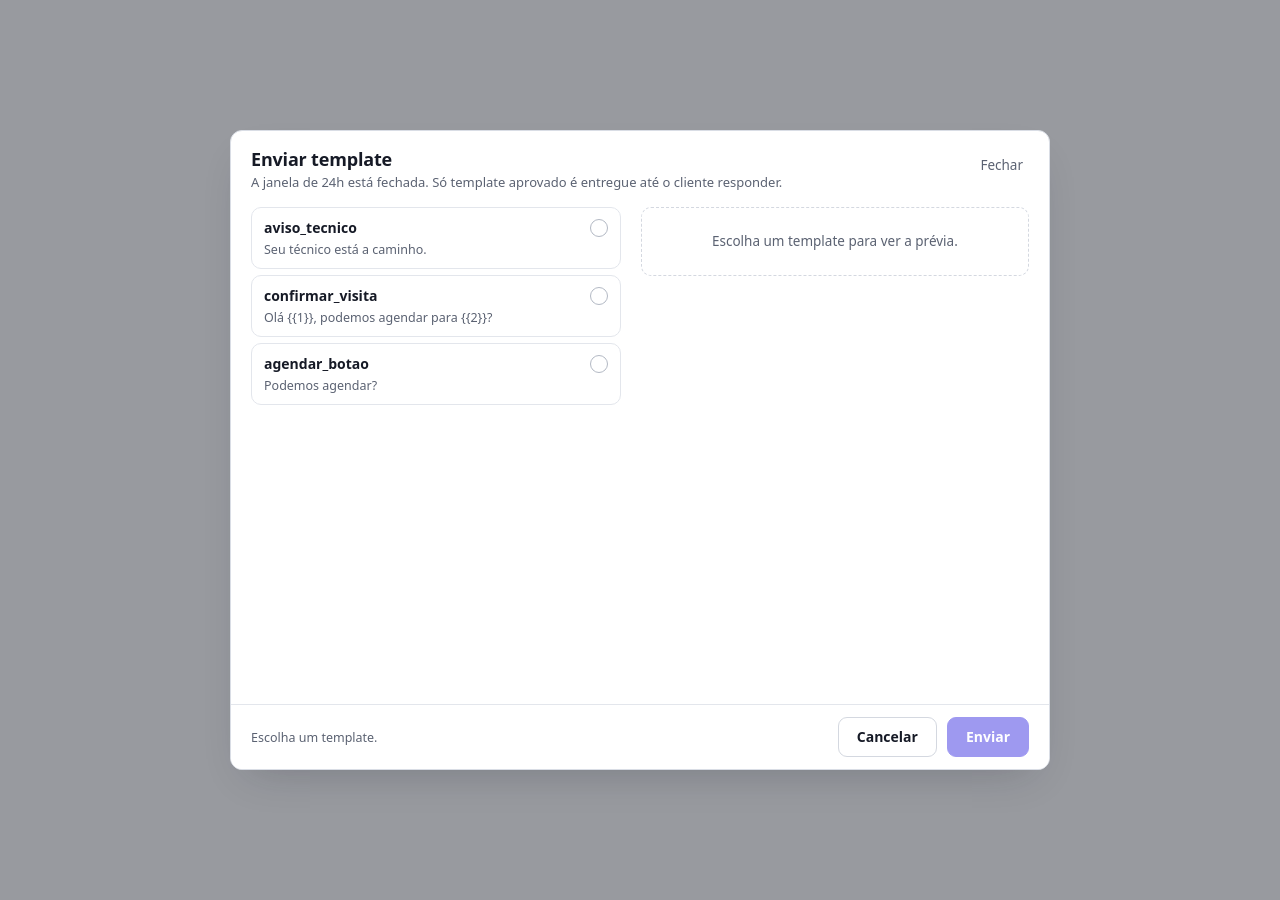
it: SendTemplateModal › a prévia troca as variáveis pelo que foi digitado
The width and height of the screenshot is (1280, 900).
Click the radio button labelled "confirmar_visita Olá {{1}}, podemos agendar para {{2}}?" at (436, 306), box x1=251 y1=275 x2=621 y2=337
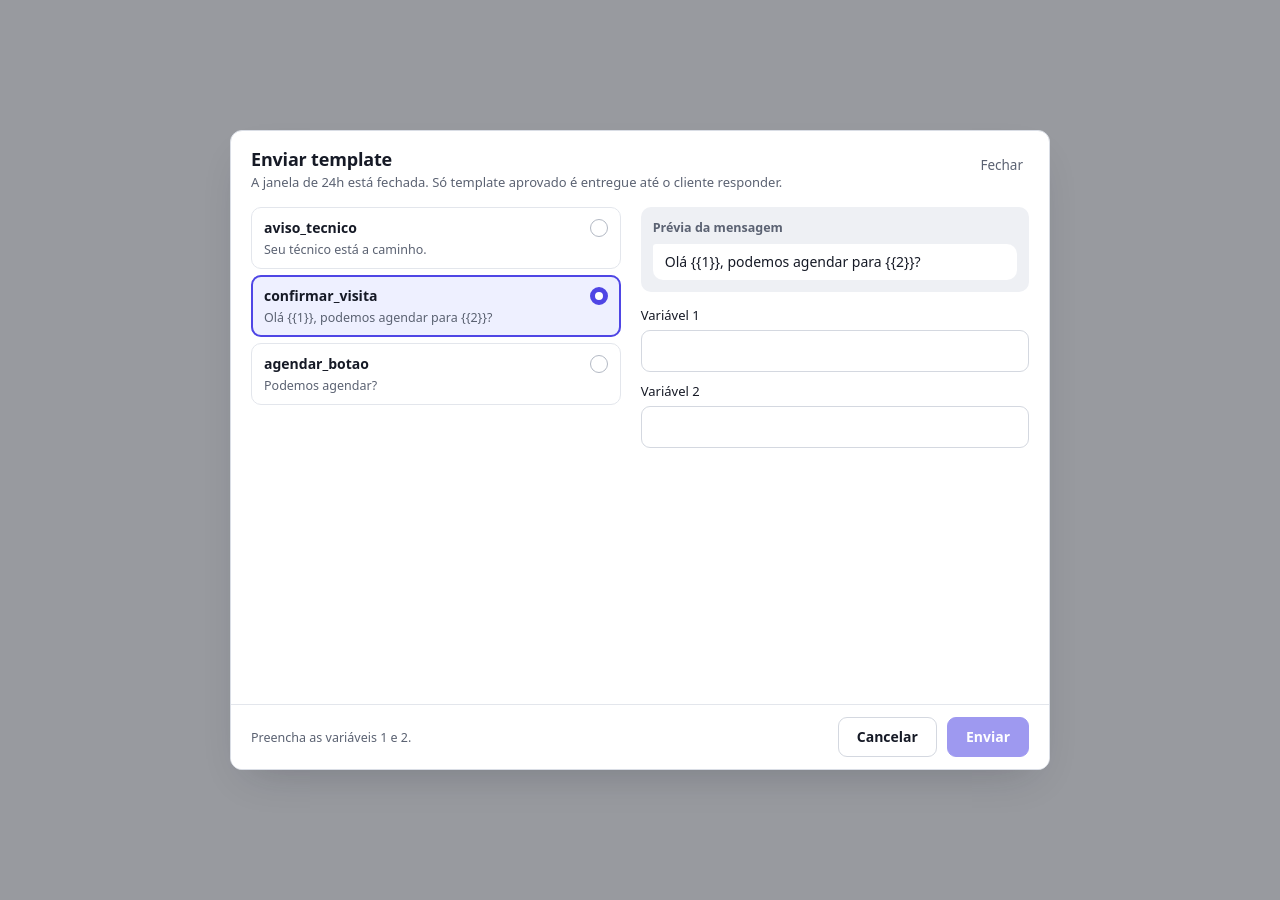
Type "Maria" into the field labelled "Variável 1" at (835, 351), box x1=641 y1=330 x2=1029 y2=372
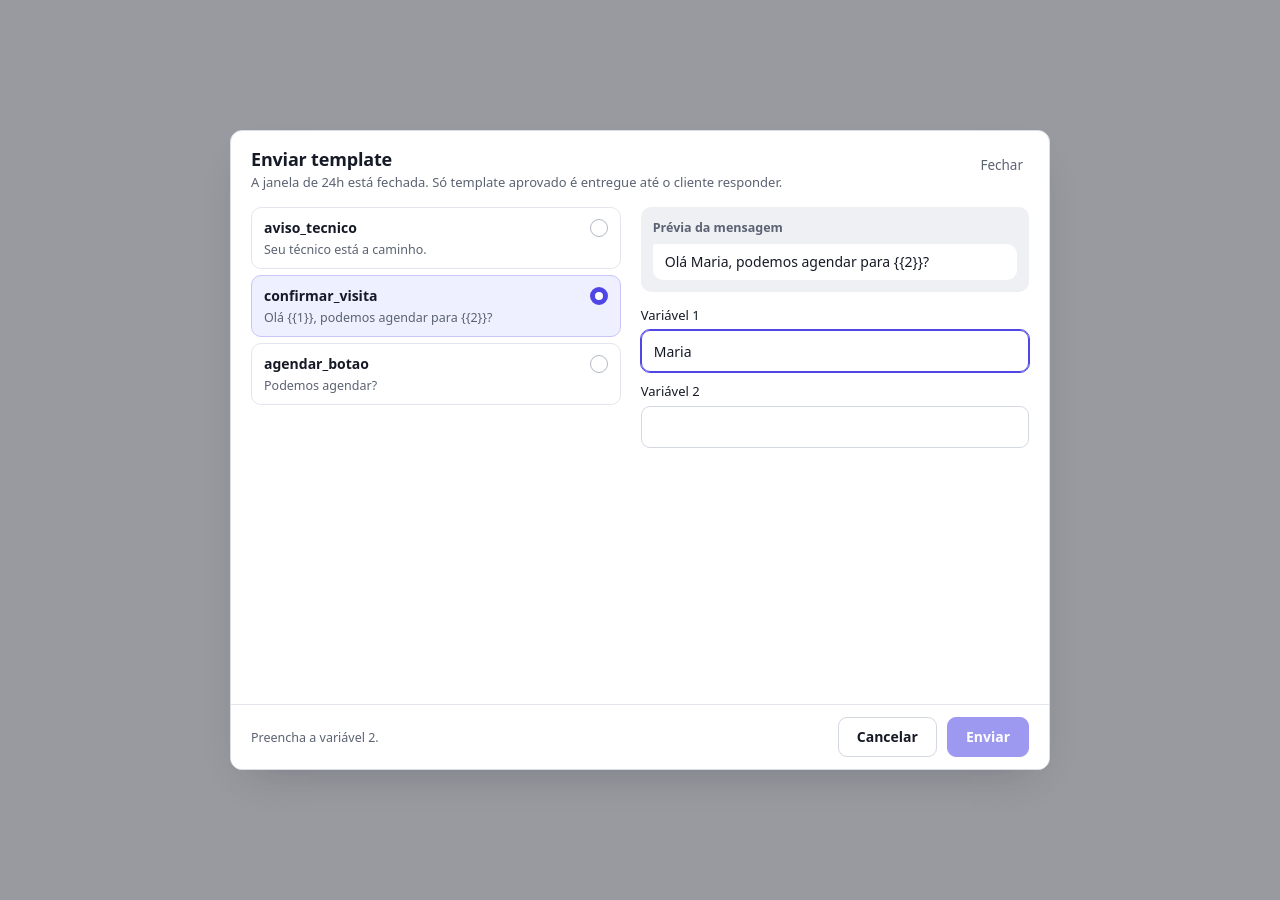
Type "terça" into the field labelled "Variável 2" at (835, 427), box x1=641 y1=406 x2=1029 y2=448
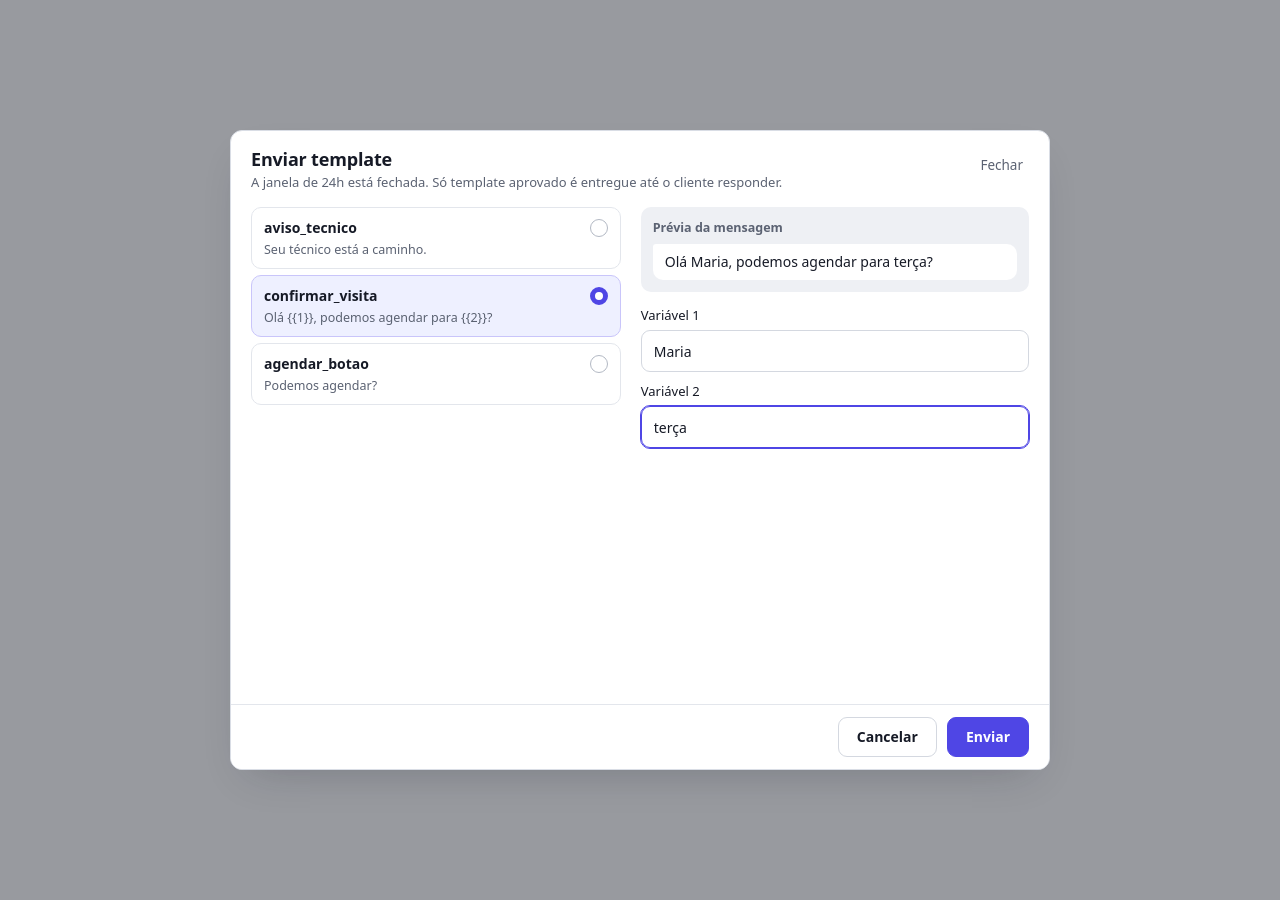
Expected: the text "Olá Maria, podemos agendar para terça?" is shown, x1=653 y1=244 x2=1017 y2=280
